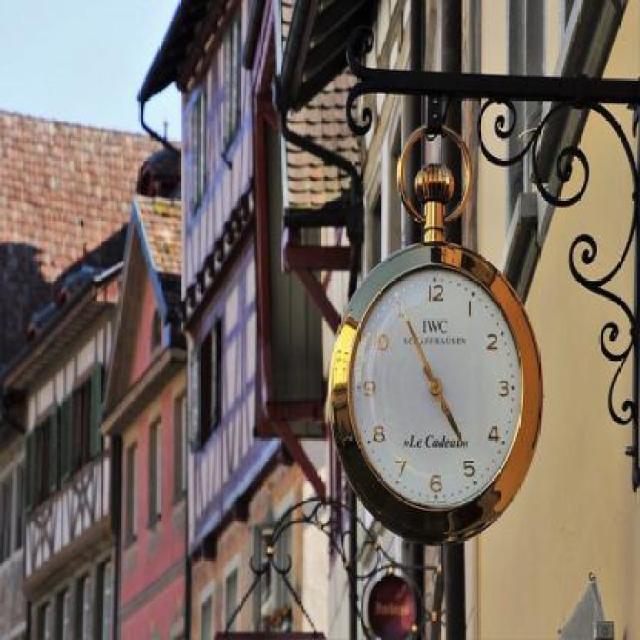clock: (352, 267, 523, 511)
